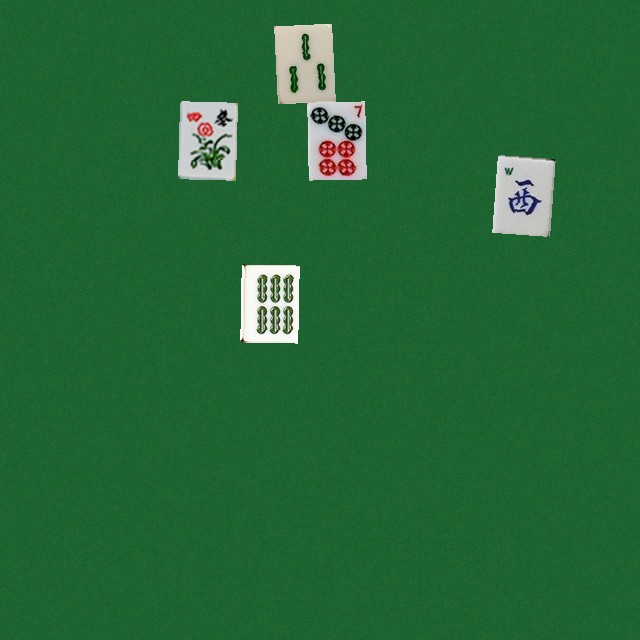tile: (307, 101, 365, 179), (492, 154, 550, 232), (177, 101, 235, 179), (240, 264, 298, 342), (274, 23, 332, 101)
